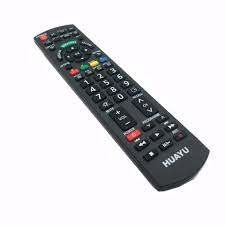remote control: (22, 20, 218, 197)
